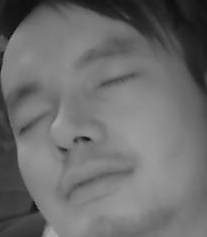blink: (96, 70, 135, 92), (20, 111, 51, 135)
mouth: (59, 157, 135, 204)
